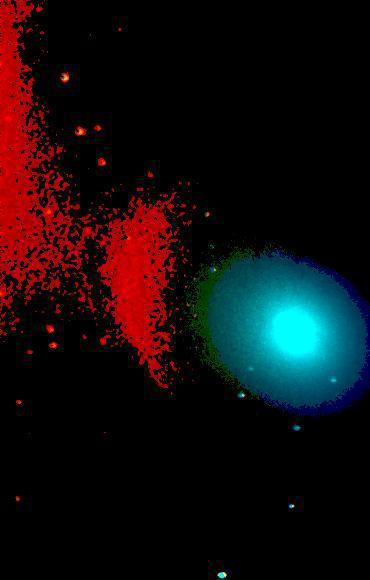star: (240, 372, 270, 402)
